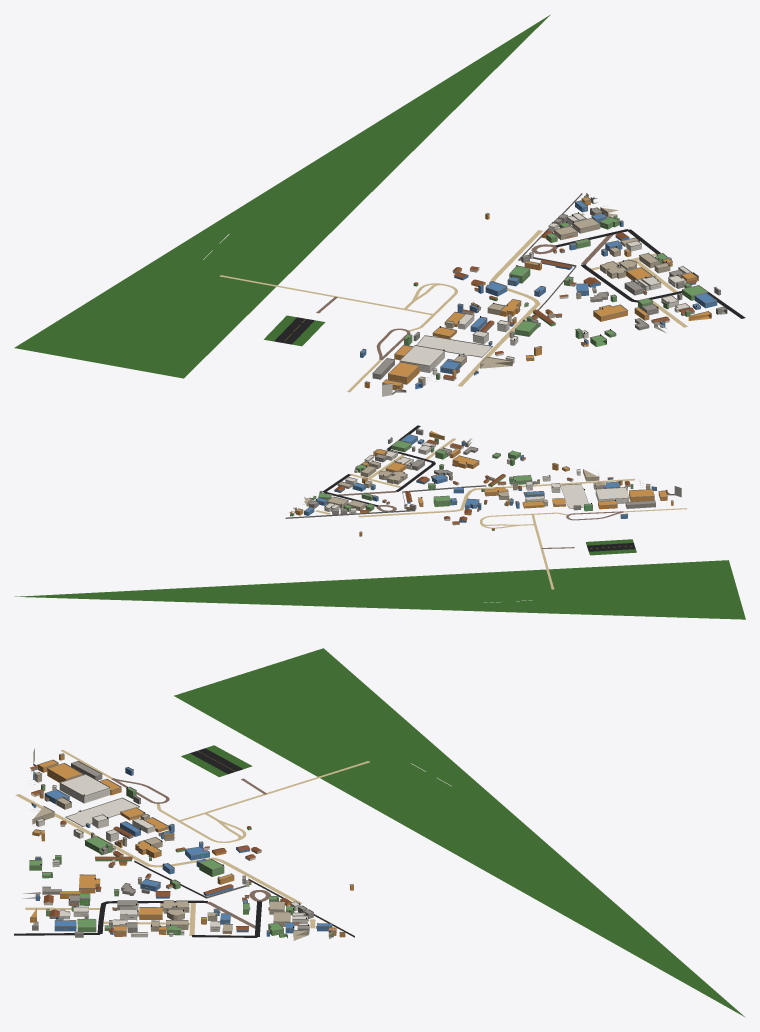
The model's file is zone_t1_1.glb.
3 renders of one model, top to bottom at view 1: azimuth 30°, elevation 25°; view 2: azimuth 150°, elevation 25°; view 3: azimuth 270°, elevation 25°, orthographic. The views are drawn at different scales.
Parts seen in each view (by area): view 1: zone_herbe_aerodrome_t1_1, parapet_t1_1, bld_peinture_blanc_t1_1-col, bld_peinture_ocre_t1_1-col, bld_peinture_ecaillee_t1_1-col, bld_peinture_bleu_t1_1-col, bld_peinture_vert_t1_1-col, bld_beton_t1_1-col, toit_tole_t1_1, route_service_terre_t1_1, route_unclassified_terre_t1_1, route_residential_bitume_t1_1 (+1 smaller); view 2: zone_herbe_aerodrome_t1_1, parapet_t1_1, bld_peinture_blanc_t1_1-col, bld_peinture_ocre_t1_1-col, bld_peinture_ecaillee_t1_1-col, bld_peinture_vert_t1_1-col, bld_peinture_bleu_t1_1-col, bld_beton_t1_1-col, toit_tole_t1_1, route_service_terre_t1_1, route_unclassified_terre_t1_1, route_residential_bitume_t1_1 (+2 smaller); view 3: zone_herbe_aerodrome_t1_1, parapet_t1_1, bld_peinture_blanc_t1_1-col, bld_peinture_ocre_t1_1-col, bld_peinture_vert_t1_1-col, bld_peinture_ecaillee_t1_1-col, bld_peinture_bleu_t1_1-col, bld_beton_t1_1-col, toit_tole_t1_1, route_service_terre_t1_1, route_residential_bitume_t1_1, route_unclassified_terre_t1_1 (+1 smaller).
Part boxes in pixels (x1=…): zone_herbe_aerodrome_t1_1: x1=14, y1=14, x2=550, y2=378; parapet_t1_1: x1=360, y1=193, x2=727, y2=386; bld_peinture_blanc_t1_1-col: x1=399, y1=213, x2=690, y2=375; bld_peinture_ocre_t1_1-col: x1=364, y1=194, x2=711, y2=390; bld_peinture_ecaillee_t1_1-col: x1=418, y1=208, x2=670, y2=386; bld_peinture_bleu_t1_1-col: x1=360, y1=201, x2=717, y2=389; bld_peinture_vert_t1_1-col: x1=404, y1=196, x2=707, y2=379; bld_beton_t1_1-col: x1=372, y1=198, x2=727, y2=392; toit_tole_t1_1: x1=396, y1=218, x2=697, y2=390; route_service_terre_t1_1: x1=220, y1=275, x2=457, y2=392; route_unclassified_terre_t1_1: x1=458, y1=230, x2=542, y2=386; route_residential_bitume_t1_1: x1=555, y1=229, x2=745, y2=318; zone_herbe_aerodrome_t1_1: x1=14, y1=539, x2=745, y2=619; parapet_t1_1: x1=289, y1=428, x2=681, y2=533; bld_peinture_blanc_t1_1-col: x1=324, y1=442, x2=629, y2=520; bld_peinture_ocre_t1_1-col: x1=290, y1=431, x2=673, y2=536; bld_peinture_ecaillee_t1_1-col: x1=304, y1=461, x2=650, y2=525; bld_peinture_vert_t1_1-col: x1=290, y1=438, x2=633, y2=530; bld_peinture_bleu_t1_1-col: x1=304, y1=435, x2=656, y2=522; bld_beton_t1_1-col: x1=293, y1=429, x2=669, y2=514; toit_tole_t1_1: x1=325, y1=439, x2=667, y2=529; route_service_terre_t1_1: x1=480, y1=508, x2=686, y2=589; route_unclassified_terre_t1_1: x1=358, y1=478, x2=634, y2=517; route_residential_bitume_t1_1: x1=322, y1=425, x2=435, y2=506; zone_herbe_aerodrome_t1_1: x1=174, y1=648, x2=745, y2=1017; parapet_t1_1: x1=29, y1=748, x2=353, y2=935; bld_peinture_blanc_t1_1-col: x1=36, y1=775, x2=307, y2=937; bld_peinture_ocre_t1_1-col: x1=30, y1=754, x2=353, y2=937; bld_peinture_vert_t1_1-col: x1=29, y1=784, x2=294, y2=938; bld_peinture_ecaillee_t1_1-col: x1=31, y1=772, x2=308, y2=940; bld_peinture_bleu_t1_1-col: x1=31, y1=767, x2=331, y2=936; bld_beton_t1_1-col: x1=22, y1=761, x2=333, y2=939; toit_tole_t1_1: x1=30, y1=765, x2=299, y2=932; route_service_terre_t1_1: x1=61, y1=750, x2=369, y2=842; route_residential_bitume_t1_1: x1=14, y1=900, x2=262, y2=937; route_unclassified_terre_t1_1: x1=15, y1=794, x2=302, y2=903.
Bounding box in the file's own units: 1025 × 15.9 × 858.
